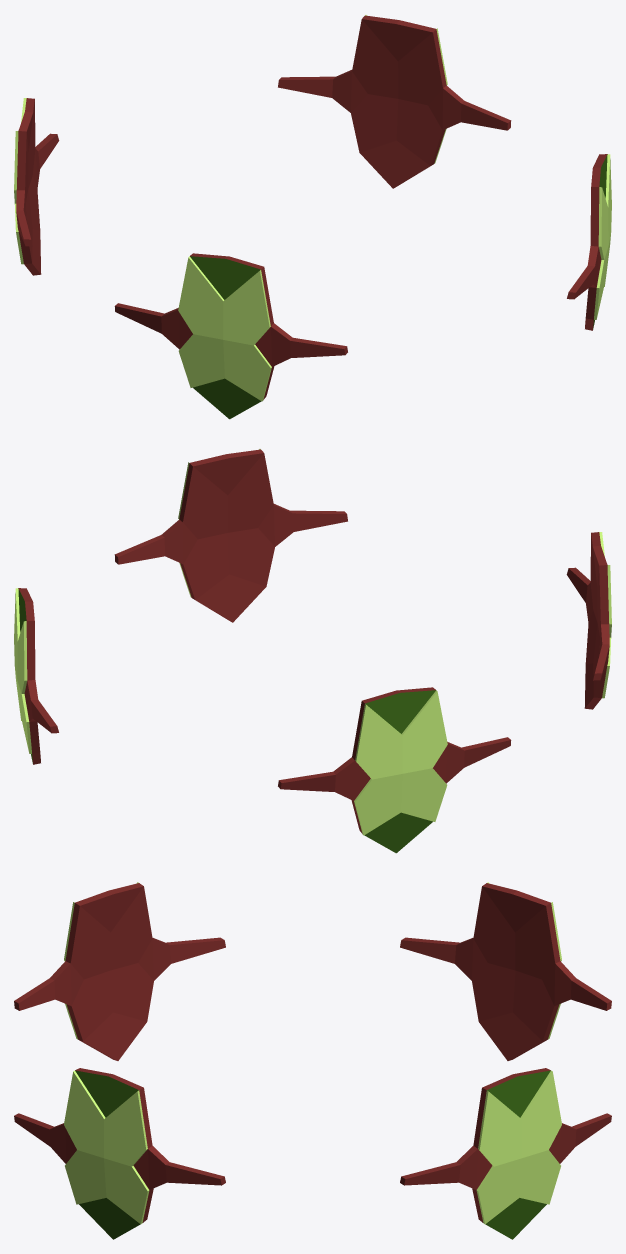
File: shield_ability01.fbx
The picture shows the model from 3 angles, top to bottom: view 1: azimuth 30°, elevation 25°; view 2: azimuth 150°, elevation 25°; view 3: azimuth 270°, elevation 25°; orthographic projection.
Parts seen in each view (by area): view 1: shield01; view 2: shield01; view 3: shield01.
Boxes of the visible parts, box(x1,y1,x2,y2) form: shield01: box(14, 15, 611, 419); shield01: box(14, 449, 611, 853); shield01: box(14, 882, 611, 1239).
Bounding box in the file's own units: 114 × 36.57 × 119.
